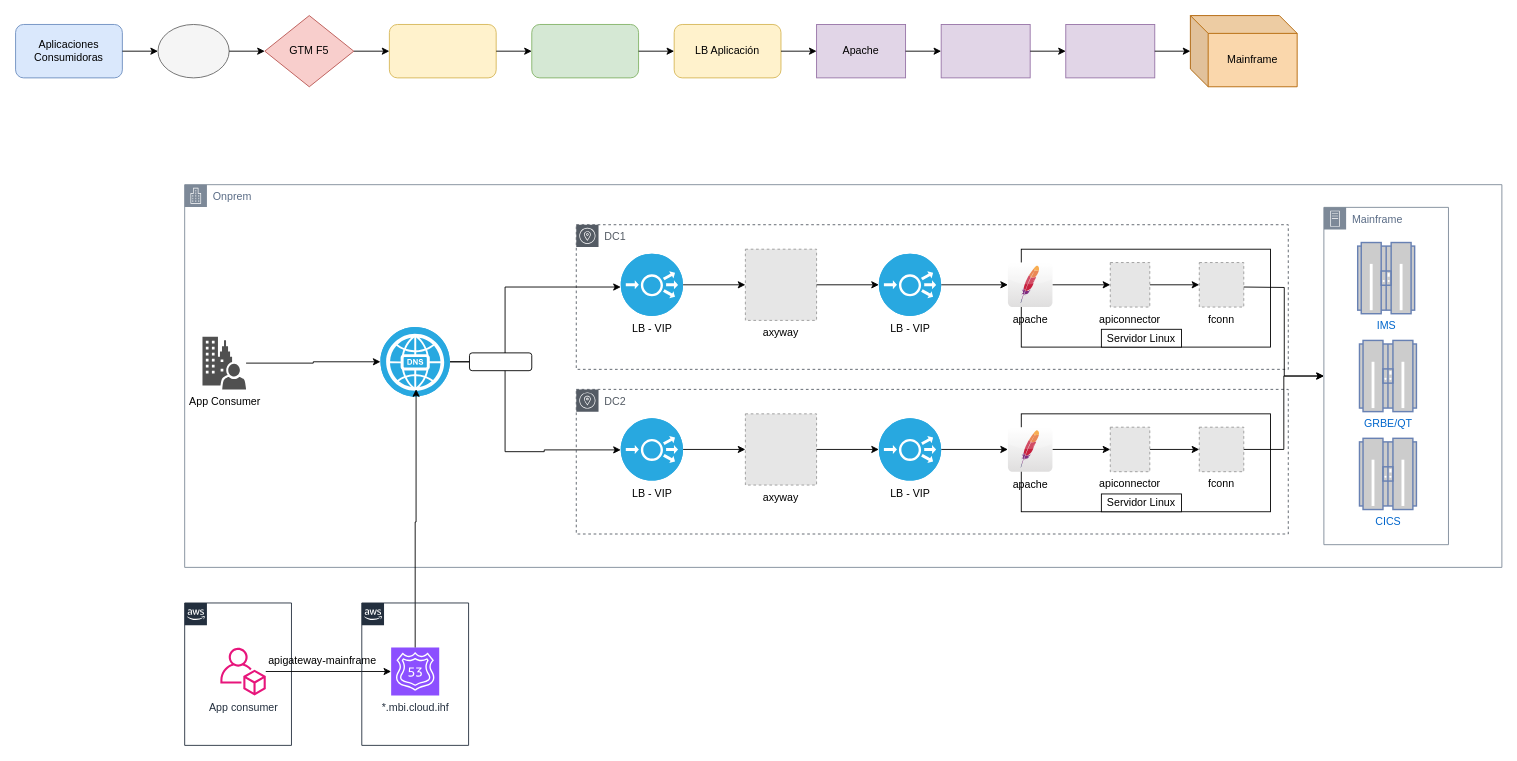
This 1517x761 diagram has some shape labels left out. Grey dashed boxes stand in for pictures. The box of each missing label's shape, as (x1, y1, x2, y2) in pixels:
App C#: (940, 24, 1030, 78)
App Java: (1065, 24, 1155, 78)
Axway API Gateway (Onprem): (531, 24, 639, 78)
DevOps: (184, 602, 291, 745)
DNS: (157, 24, 229, 78)
DNS/GTM F5: (380, 326, 450, 396)
LB VIP Onprem (DC1 / DC2): (388, 24, 496, 78)
Shared: (361, 602, 469, 745)
topology: (469, 352, 532, 371)
